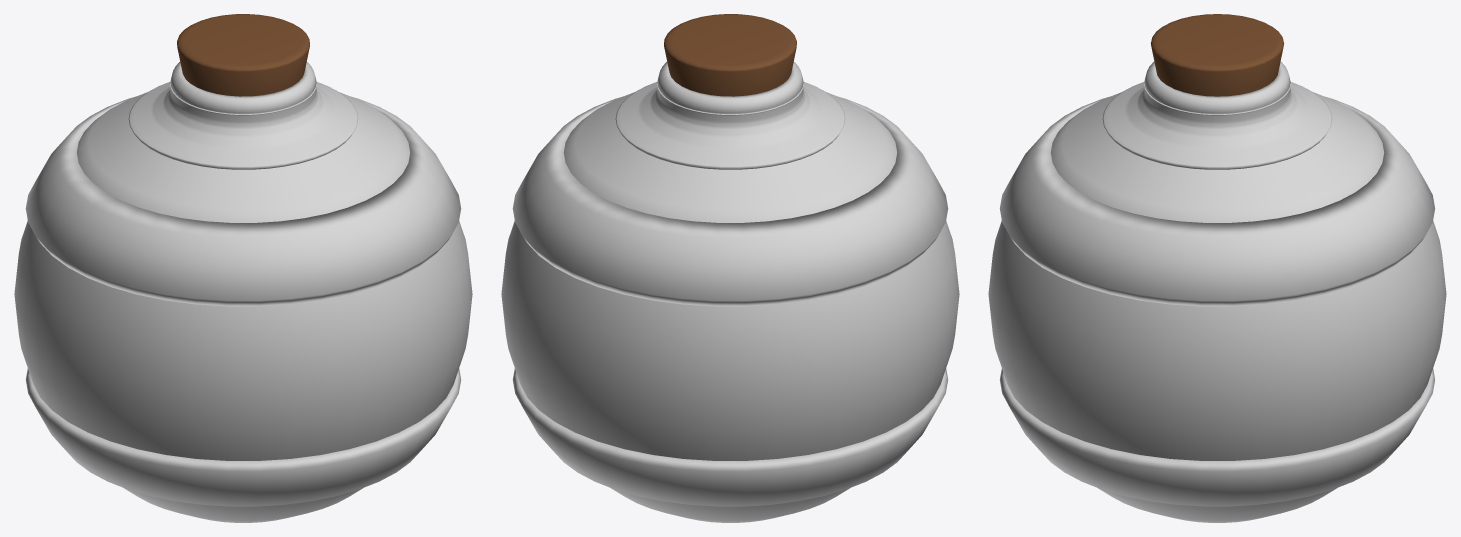
File: Potion_6.fbx
3 views of the same model, side by side, from view 1: azimuth 30°, elevation 25°; view 2: azimuth 150°, elevation 25°; view 3: azimuth 270°, elevation 25° (orthographic).
Parts seen in each view (by area): view 1: Potion_6; view 2: Potion_6; view 3: Potion_6.
Part boxes in pixels (x1=…): Potion_6: x1=14, y1=14, x2=472, y2=522; Potion_6: x1=501, y1=14, x2=959, y2=522; Potion_6: x1=988, y1=14, x2=1446, y2=522.
Bounding box in the file's own units: 45.75 × 51.02 × 45.88.
